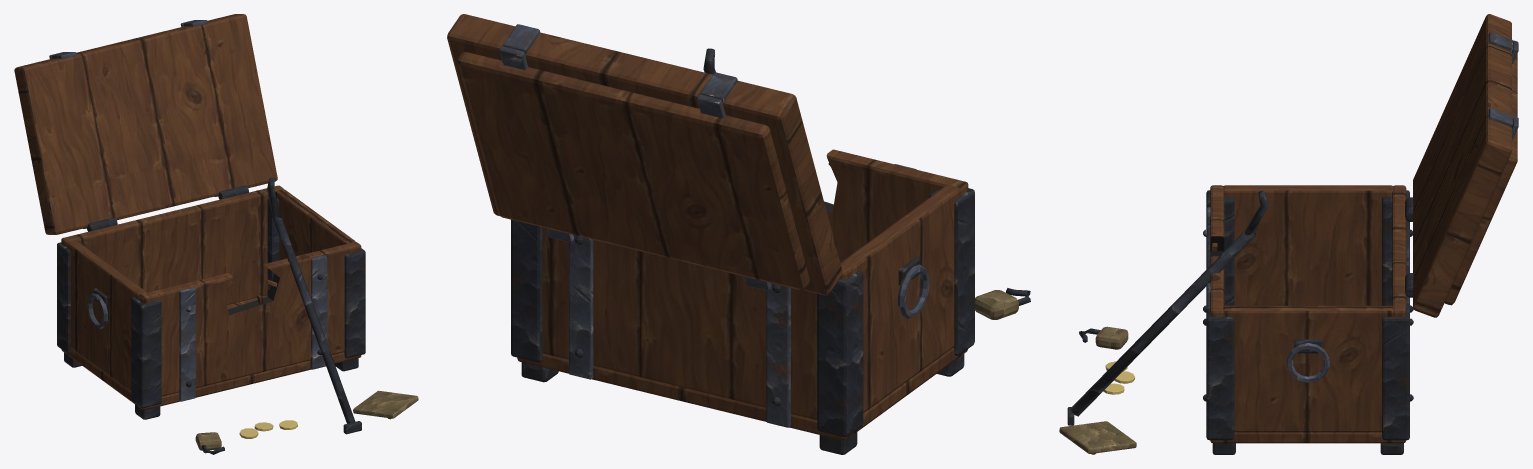
Rendered from bv_strongbox_looted.glb.
3 renders of one model, left to right at view 1: azimuth 30°, elevation 25°; view 2: azimuth 150°, elevation 25°; view 3: azimuth 270°, elevation 25°, orthographic. The views are drawn at different scales.
Visible parts, largest first — view 1: model; view 2: model; view 3: model.
Boxes of the visible parts, box(x1,y1,x2,y2) form: model: box(14, 14, 418, 454); model: box(447, 14, 1030, 454); model: box(1059, 14, 1518, 454).
Bounding box in the file's own units: 0.6761 × 0.7653 × 0.9833.
Materials: 14 (5 with a texture image).
